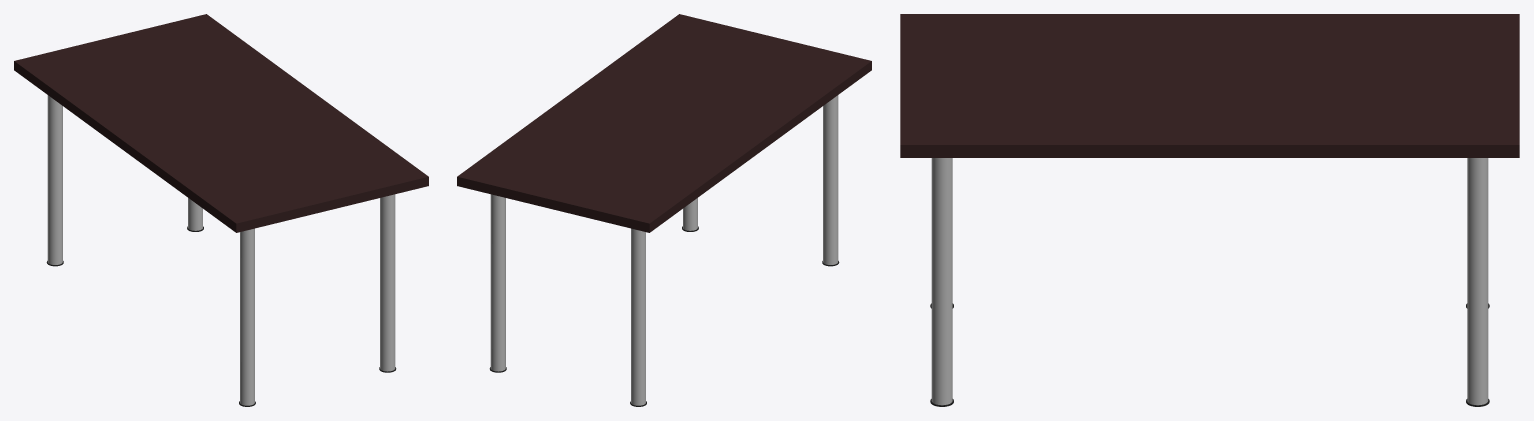
Rendered from vika_amon_59.dae.
The picture shows the model from 3 angles, left to right: view 1: azimuth 30°, elevation 25°; view 2: azimuth 150°, elevation 25°; view 3: azimuth 270°, elevation 25°; orthographic projection. The views are drawn at different scales.
Visible parts, largest first — view 1: instance_3, instance_2, instance_0, instance_4, instance_1; view 2: instance_3, instance_1, instance_4, instance_0, instance_2; view 3: instance_3, instance_1, instance_2.
Boxes of the visible parts, bbox=[...] form: instance_3: bbox=[14, 14, 428, 232]; instance_2: bbox=[380, 194, 395, 371]; instance_0: bbox=[47, 95, 62, 264]; instance_4: bbox=[240, 228, 254, 405]; instance_1: bbox=[188, 198, 202, 230]; instance_3: bbox=[457, 14, 871, 232]; instance_1: bbox=[490, 194, 505, 371]; instance_4: bbox=[823, 95, 838, 264]; instance_0: bbox=[631, 228, 645, 405]; instance_2: bbox=[683, 198, 697, 230]; instance_3: bbox=[900, 14, 1519, 157]; instance_1: bbox=[1467, 158, 1488, 405]; instance_2: bbox=[931, 158, 952, 405].
Size of the model in its own units: 29.5 by 59 by 28.88.
